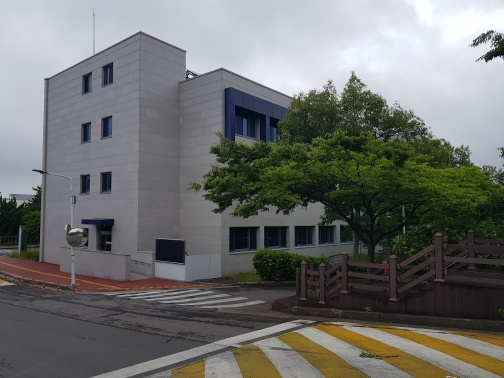College of Social Sciences: (35, 28, 341, 281)
